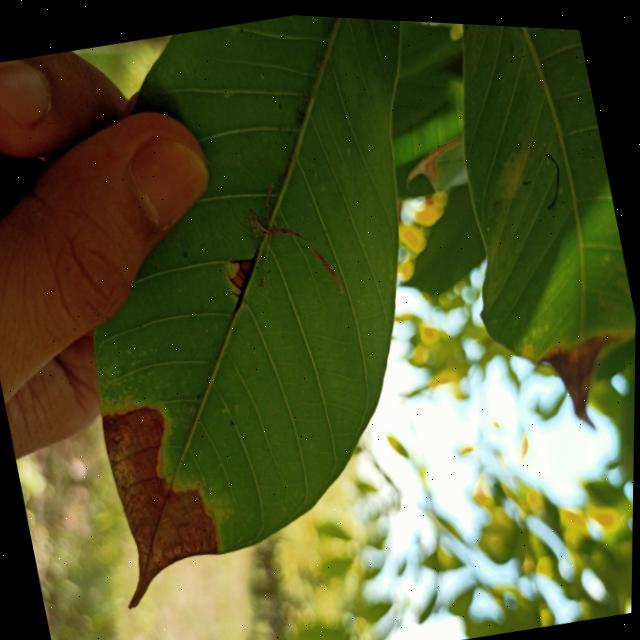Corynespora: (219, 238, 273, 313)
Leaf-Blight: (90, 391, 232, 610)
